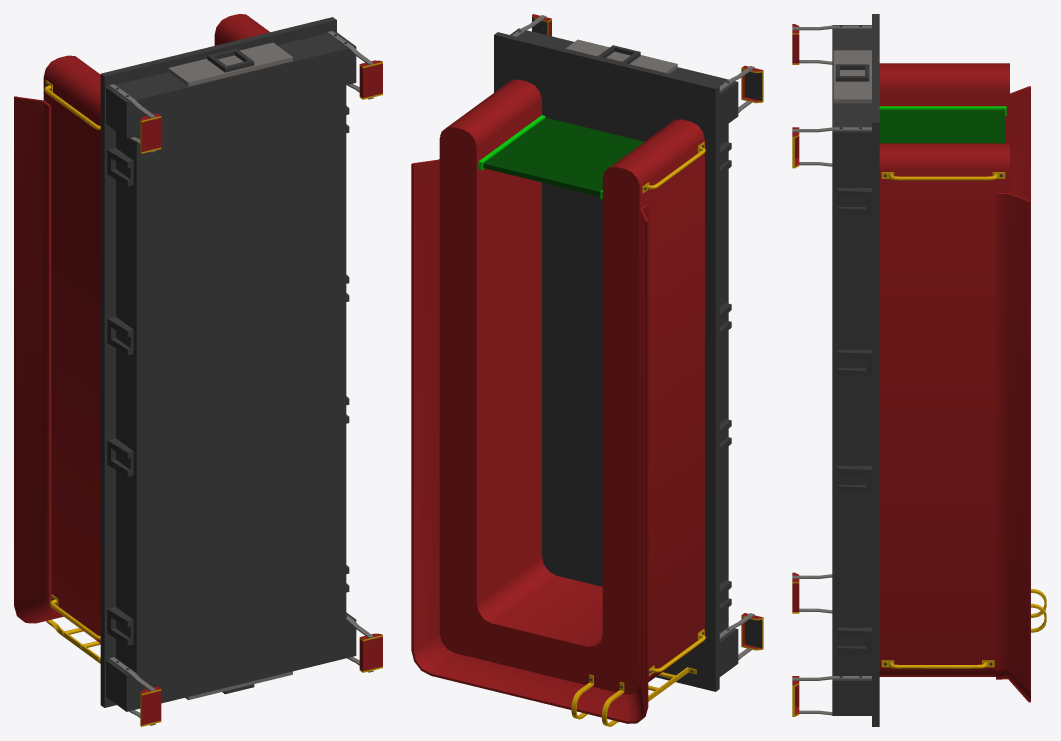
Rendered from TenderWagon_01_LOD0.fbx.
3 views of the same model, side by side, from view 1: azimuth 30°, elevation 25°; view 2: azimuth 150°, elevation 25°; view 3: azimuth 270°, elevation 25° (orthographic). The views are drawn at different scales.
Visible parts, largest first — view 1: TenderWagon_01_LOD0; view 2: TenderWagon_01_LOD0; view 3: TenderWagon_01_LOD0.
Boxes of the visible parts, box(x1,y1,x2,y2) form: TenderWagon_01_LOD0: box(14, 14, 382, 726); TenderWagon_01_LOD0: box(411, 14, 763, 726); TenderWagon_01_LOD0: box(792, 14, 1046, 726).
Size of the model in its own units: 3.18 by 7.78 by 2.97.
